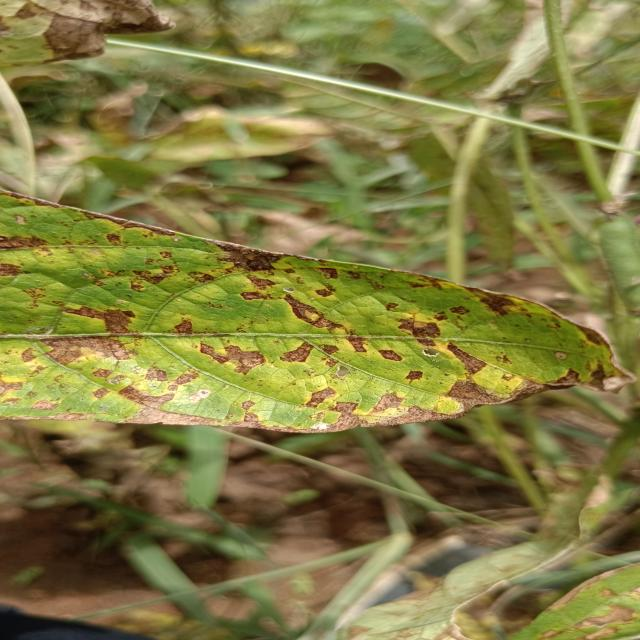Black gram_leaf spot: (0, 182, 640, 436)
